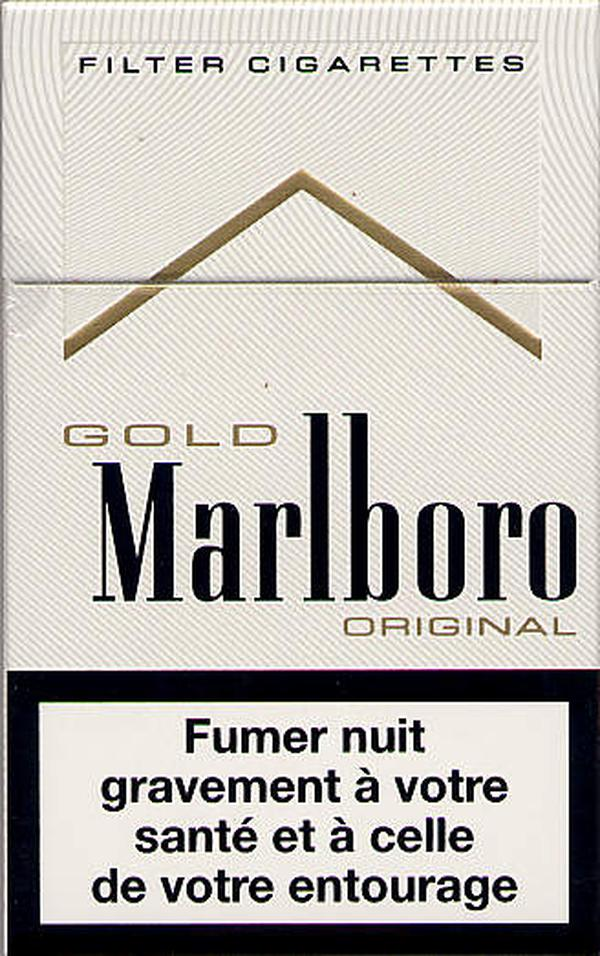marlboro_gold: (3, 9, 600, 954)
